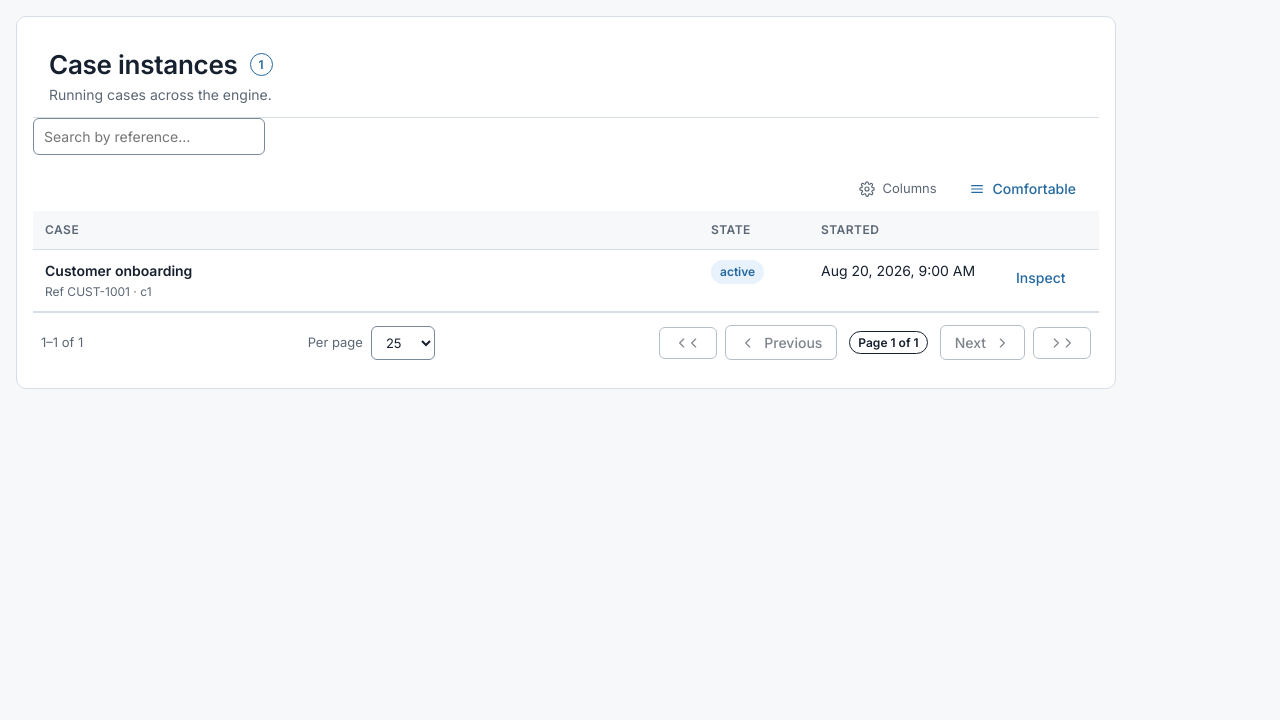
CaseInstances › shows progress, plan items and variables in the inspector
Expected: the text "Customer onboarding" is shown, [45, 262, 192, 279]
Click the button "Inspect" at (1041, 278), box [1001, 260, 1080, 295]
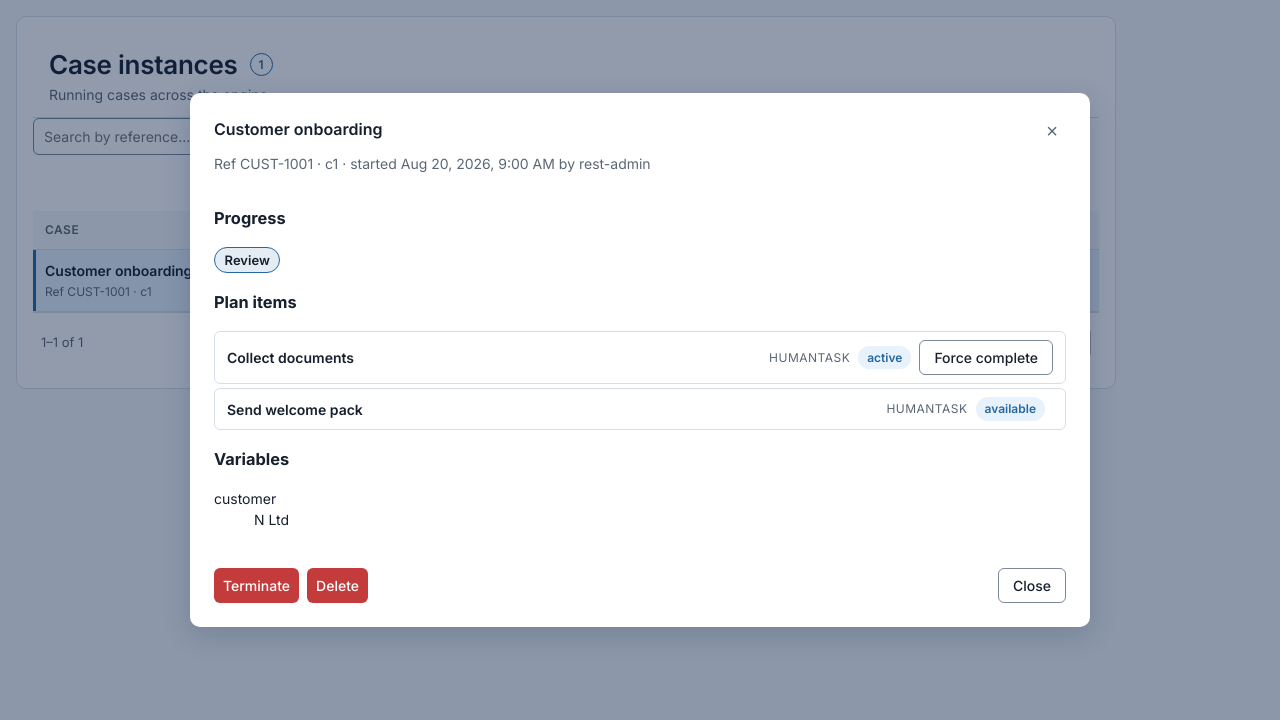
Expected: the list item "Review" is shown, [214, 247, 280, 274]
Expected: the text "Collect documents" is shown, [227, 349, 354, 366]
Expected: the text "N Ltd" is shown, [254, 510, 289, 528]
